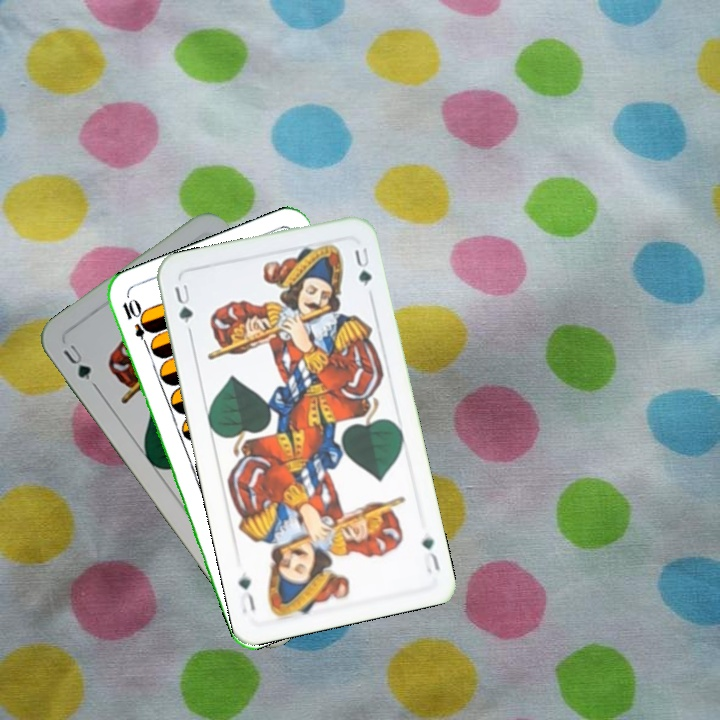E10: (118, 295, 154, 352)
GU: (58, 338, 94, 383), (170, 280, 196, 326), (417, 533, 442, 577)
